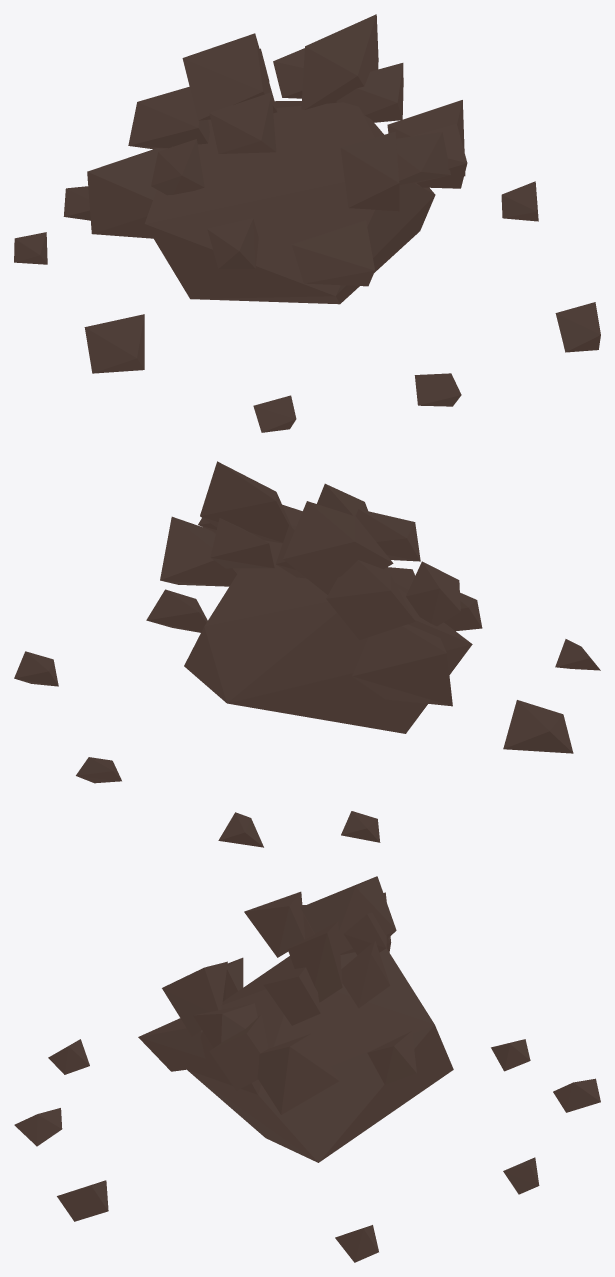
Rendered from Blender_LavaRock_1.glb.
3 views of the same model, one above another, from view 1: azimuth 30°, elevation 25°; view 2: azimuth 150°, elevation 25°; view 3: azimuth 270°, elevation 25° (orthographic). The views are drawn at different scales.
Parts seen in each view (by area): view 1: Blender_LavaRock_1; view 2: Blender_LavaRock_1; view 3: Blender_LavaRock_1.
Boxes of the visible parts, x1,y1,x2,y2 form: Blender_LavaRock_1: (14,14,600,432); Blender_LavaRock_1: (14,461,600,847); Blender_LavaRock_1: (14,876,600,1262).
Bounding box in the file's own units: 1.89 × 0.9397 × 2.
